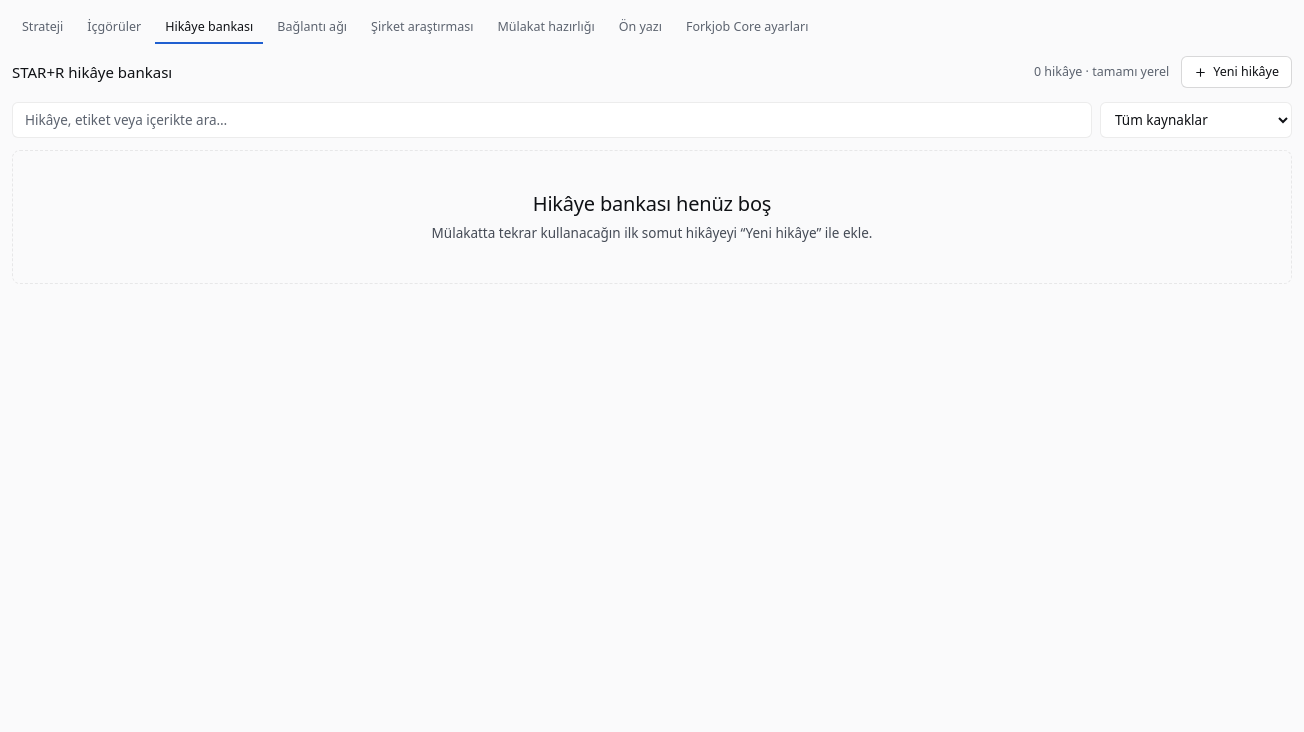
Scenario: CareerWorkspace › şirket araştırmasında duyuru kaydı 'Şirket Notu' etiketi taşımaz
Click the tab "Şirket araştırması" at (422, 28), box [361,12,484,44]
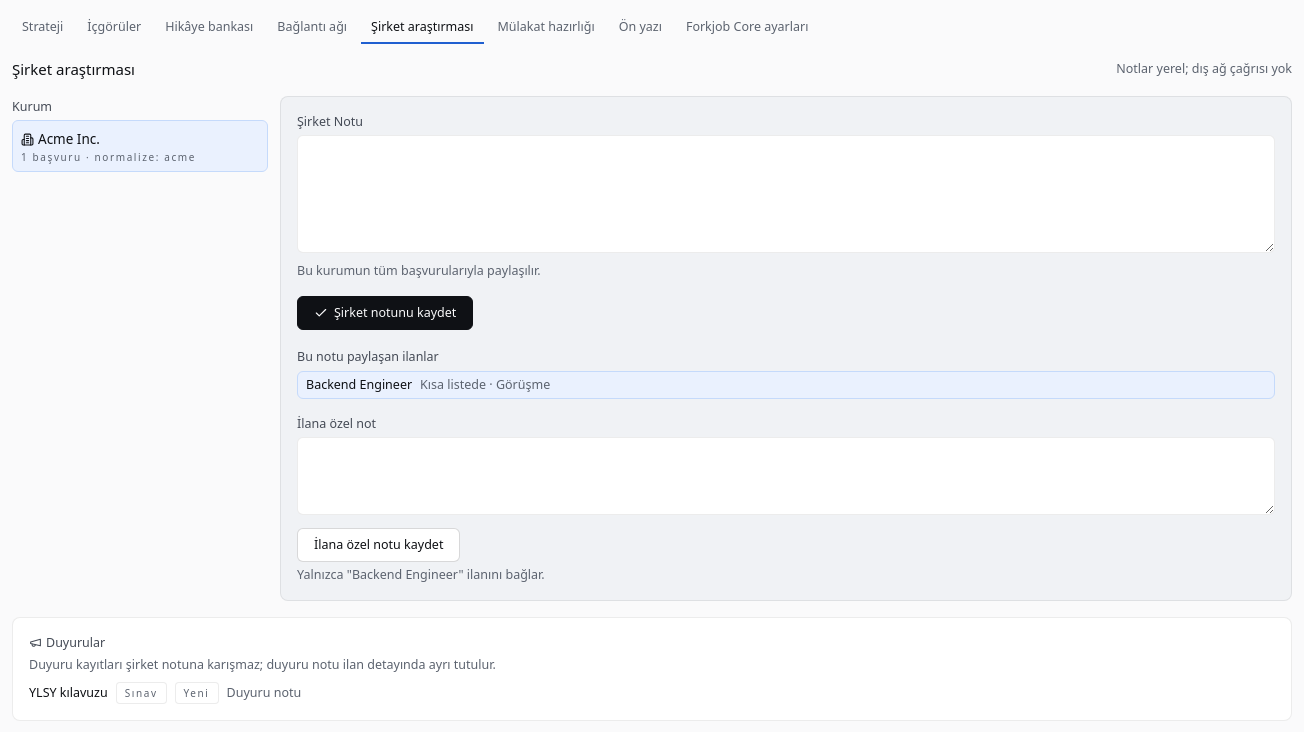
Now the text "YLSY kılavuzu" is shown, box [29,684,108,702]
Now the text "Şirket Notu" is shown once, box [297,113,363,130]
Now the text "Duyuru notu" is shown, box [227,684,301,702]
